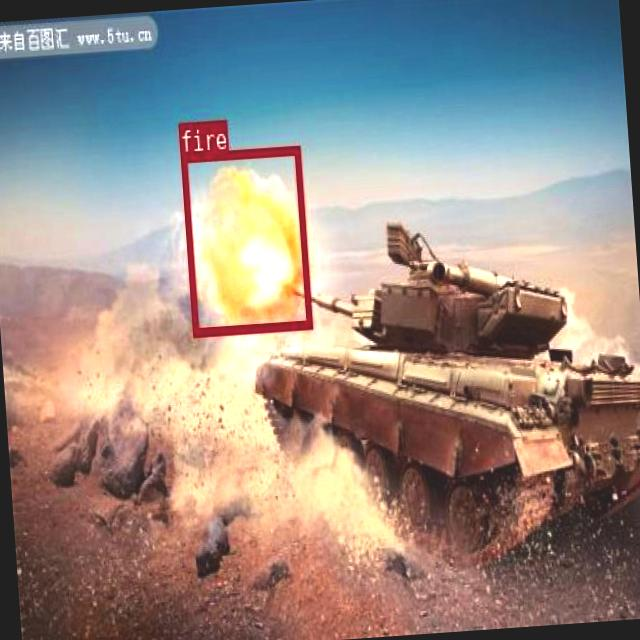fire: (180, 144, 310, 334)
